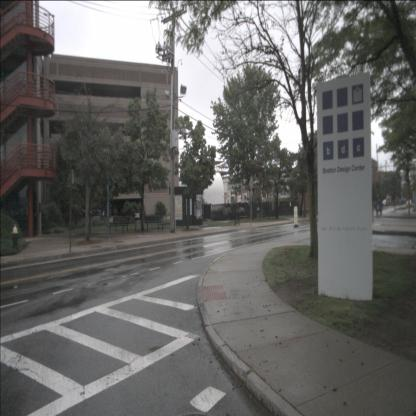vehicle-car: (406, 198, 412, 206)
vehicle-truck: (218, 204, 244, 218)
